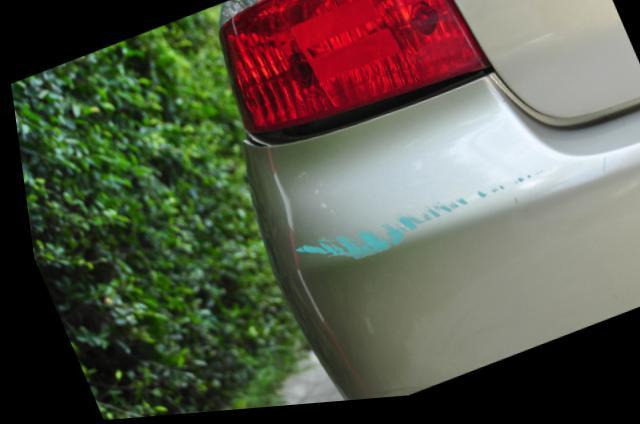scratch: (283, 178, 534, 266)
